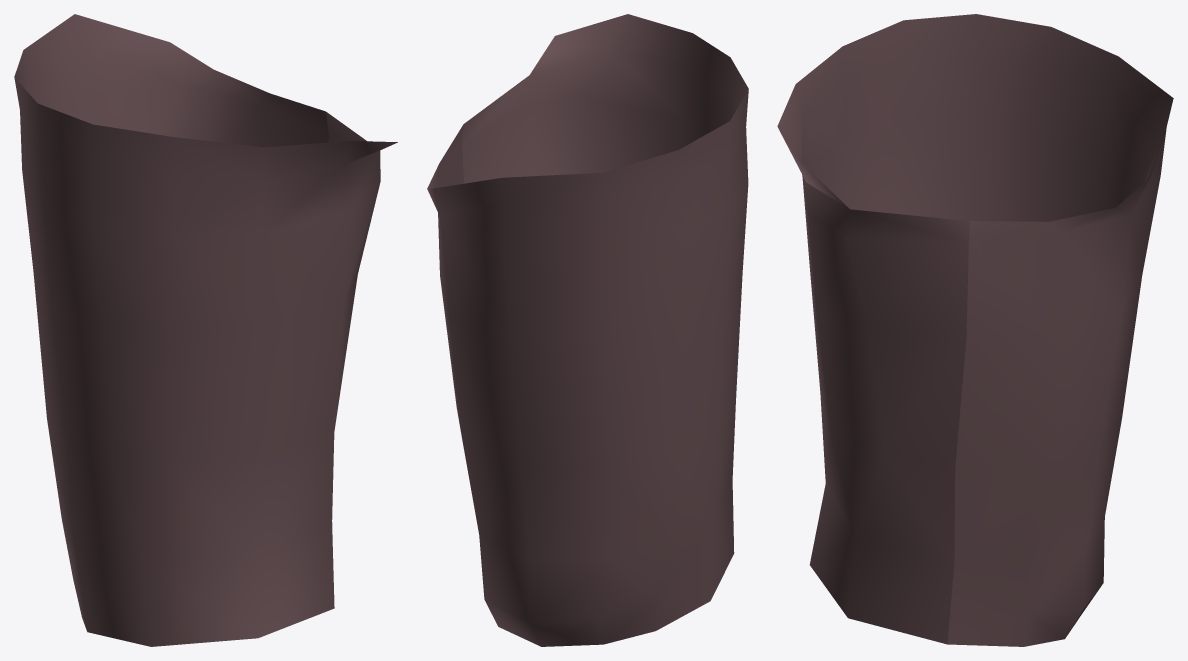
The model's file is pIzqOak.obj.
The picture shows the model from 3 angles, left to right: view 1: azimuth 30°, elevation 25°; view 2: azimuth 150°, elevation 25°; view 3: azimuth 270°, elevation 25°; orthographic projection. The views are drawn at different scales.
Visible parts, largest first — view 1: LThigh, LLeg, Hips, PiernaIzq_body.001; view 2: LThigh, Hips, LLeg, PiernaIzq_body.001; view 3: LThigh, LLeg, PiernaIzq_body.001, Hips.
Boxes of the visible parts, x1,y1,x2,y2 form: LThigh: (14,14,380,646); LLeg: (73,522,334,646); Hips: (176,70,397,179); PiernaIzq_body.001: (14,14,92,161); LThigh: (427,52,748,646); Hips: (427,14,729,188); LLeg: (484,525,733,646); PiernaIzq_body.001: (502,89,748,202); LThigh: (800,14,1172,644); LLeg: (810,538,1082,646); PiernaIzq_body.001: (903,14,1173,125); Hips: (777,47,1114,243).
Bounding box in the file's own units: 16.43 × 30.29 × 20.32.
